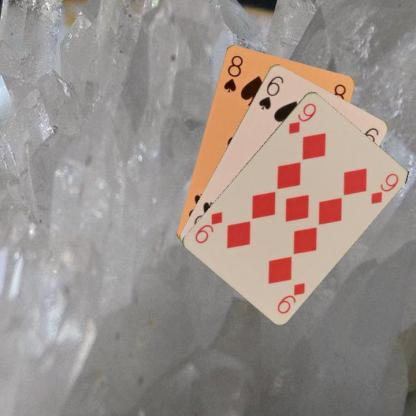6s: (255, 72, 285, 111)
8s: (221, 52, 244, 94)
9d: (285, 100, 318, 136), (274, 279, 307, 315)
